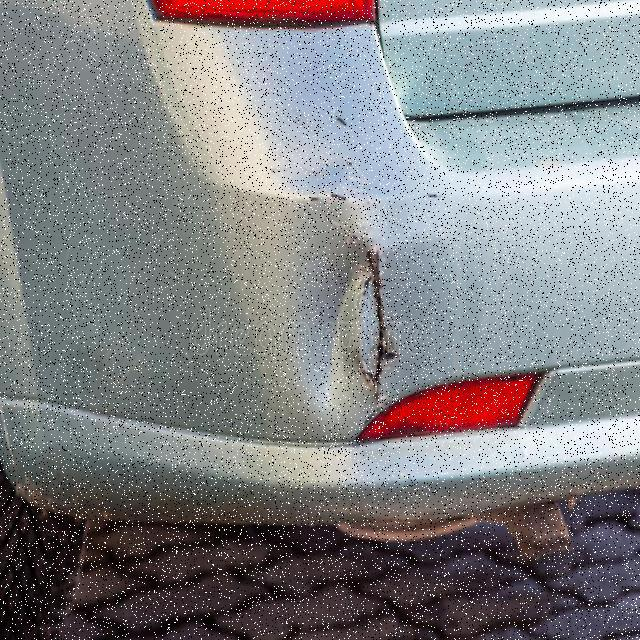rear-bumper-dent: (4, 100, 615, 514)
